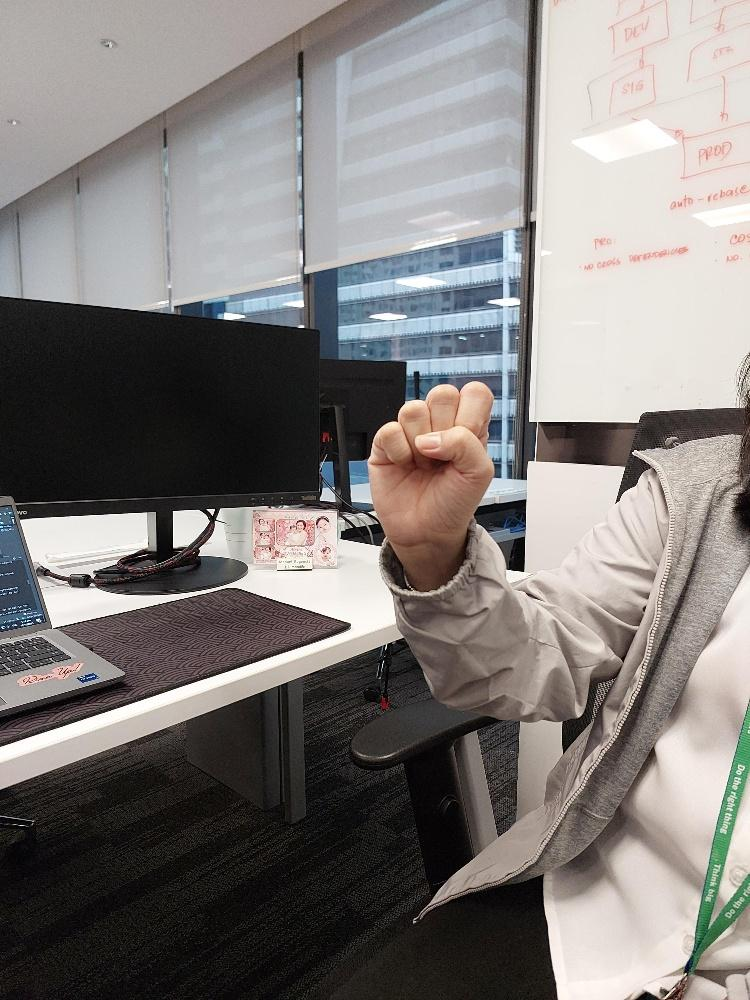s: (365, 380, 495, 545)
